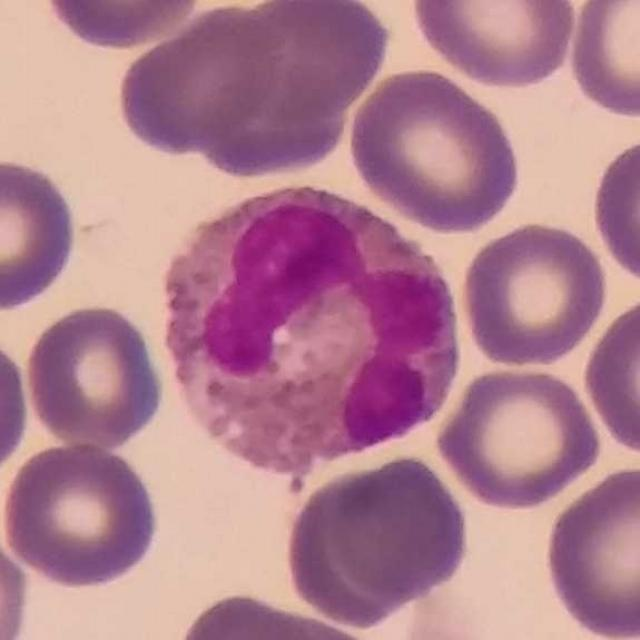eosino: (166, 182, 460, 480)
